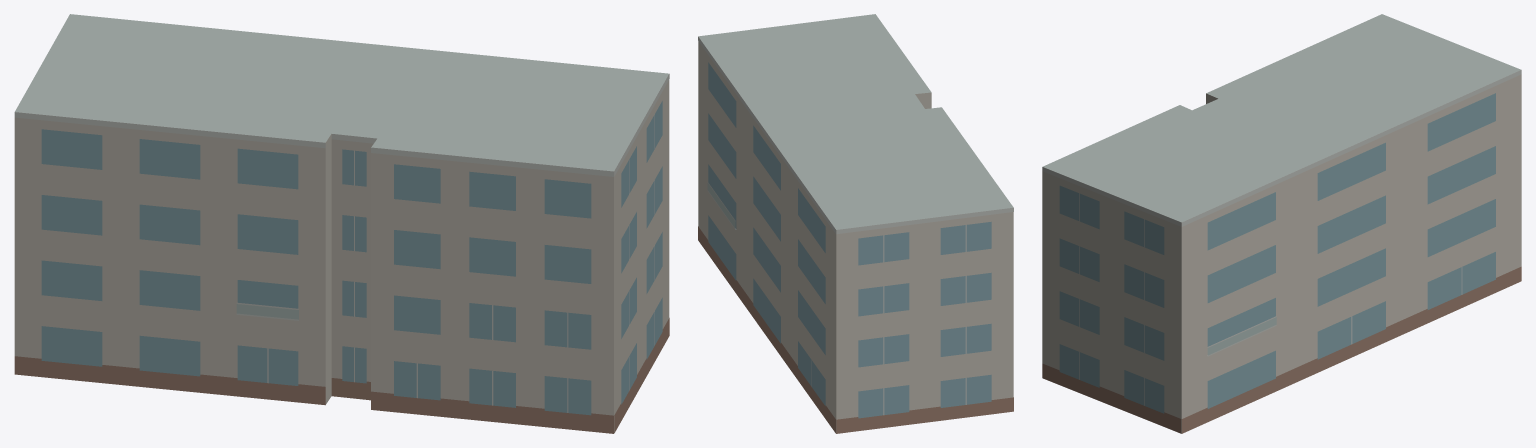
The model's file is survey-upis-32609496.glb.
3 views of the same model, side by side, from view 1: azimuth 30°, elevation 25°; view 2: azimuth 150°, elevation 25°; view 3: azimuth 270°, elevation 25° (orthographic). The views are drawn at different scales.
Parts seen in each view (by area): view 1: survey-upis-32609496.tmp; view 2: survey-upis-32609496.tmp; view 3: survey-upis-32609496.tmp.
Boxes of the visible parts, x1,y1,x2,y2 form: survey-upis-32609496.tmp: (14, 14, 669, 433); survey-upis-32609496.tmp: (698, 14, 1013, 433); survey-upis-32609496.tmp: (1042, 14, 1521, 433).
Bounding box in the file's own units: 24.55 × 11.6 × 23.84.
